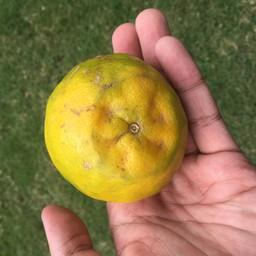Good_orange: (44, 50, 183, 202)
